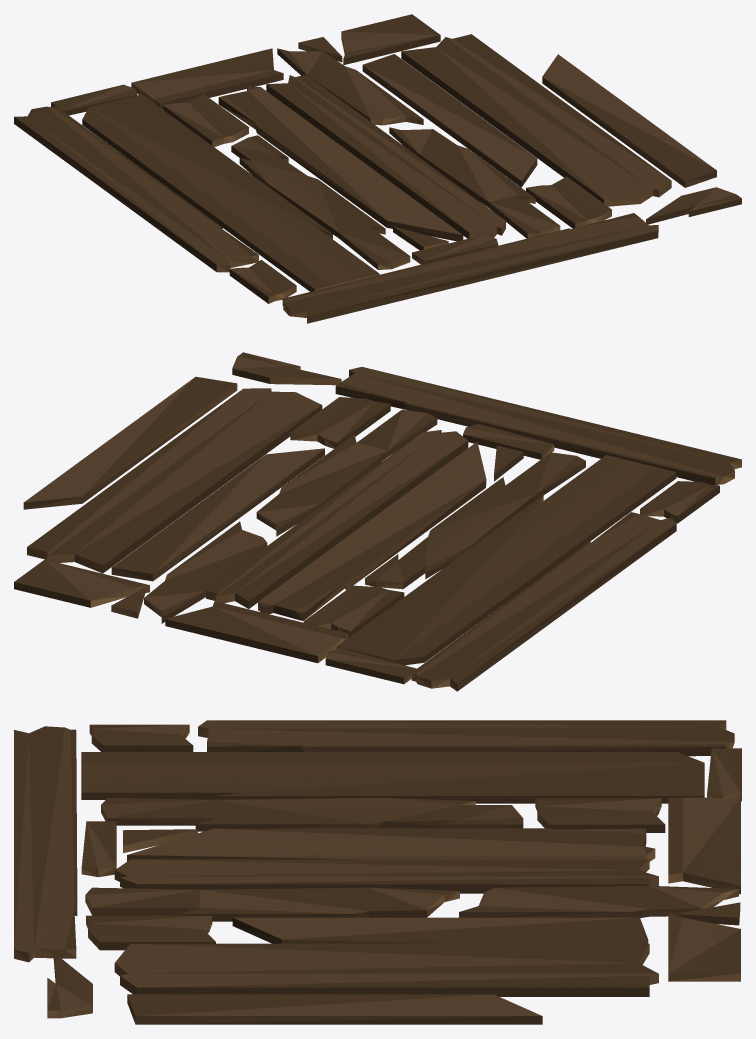
The model's file is Wood.fbx.
3 renders of one model, top to bottom at view 1: azimuth 30°, elevation 25°; view 2: azimuth 150°, elevation 25°; view 3: azimuth 270°, elevation 25°, orthographic. The views are drawn at different scales.
Parts seen in each view (by area): view 1: polySurface1083; view 2: polySurface1083; view 3: polySurface1083.
Boxes of the visible parts, box(x1,y1,x2,y2) form: polySurface1083: box(14, 14, 741, 323); polySurface1083: box(14, 352, 741, 691); polySurface1083: box(14, 720, 741, 1024).
Size of the model in its own units: 673 by 10 by 701.
1 material, 1 textured.
